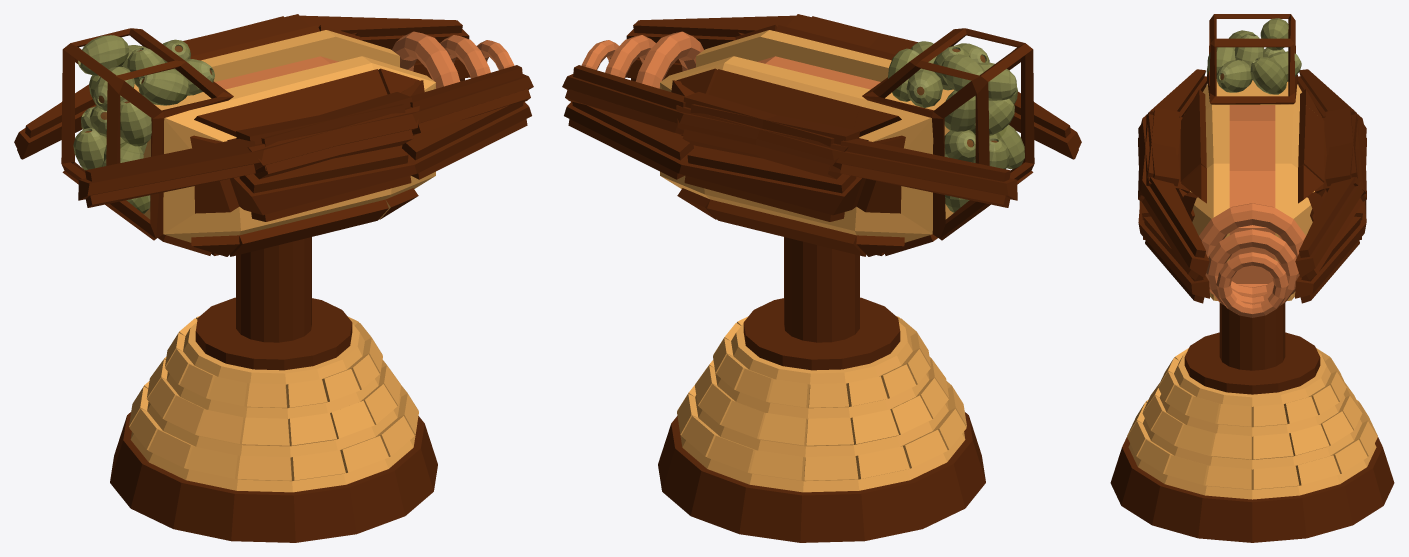
Rendered from zeytinatarlevel4.fbx.
3 renders of one model, left to right at view 1: azimuth 30°, elevation 25°; view 2: azimuth 150°, elevation 25°; view 3: azimuth 270°, elevation 25°, orthographic. The views are drawn at different scales.
Visible parts, largest first — view 1: Cube.141, parentli kurdanatar.019; view 2: Cube.141, parentli kurdanatar.019; view 3: Cube.141, parentli kurdanatar.019.
Boxes of the visible parts, x1=… form: Cube.141: x1=14, y1=14, x2=533, y2=256; parentli kurdanatar.019: x1=110, y1=237, x2=437, y2=542; Cube.141: x1=562, y1=14, x2=1081, y2=256; parentli kurdanatar.019: x1=658, y1=237, x2=985, y2=542; Cube.141: x1=1138, y1=14, x2=1366, y2=317; parentli kurdanatar.019: x1=1110, y1=303, x2=1394, y2=542.
Size of the model in its own units: 315 by 309 by 200.
4 materials, 4 textured.
